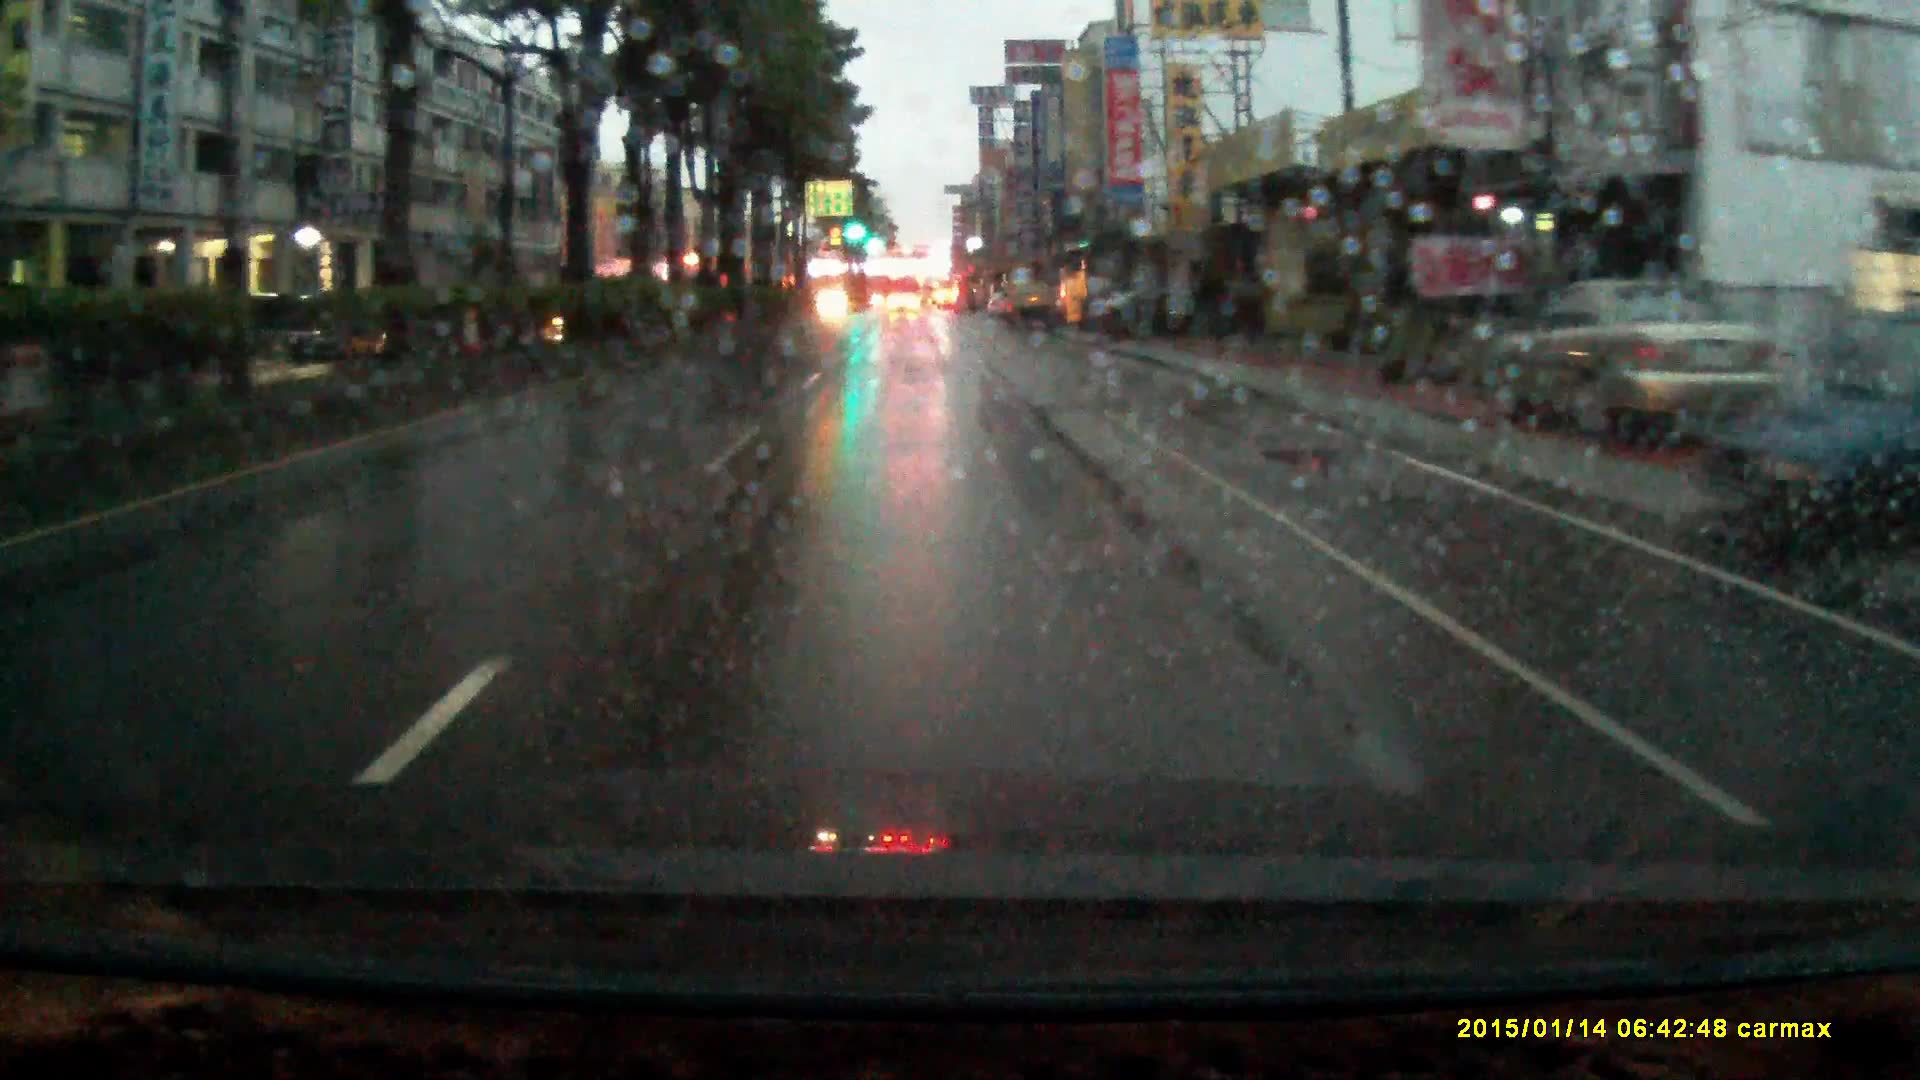vehicle: (1685, 309, 1920, 560), (1520, 280, 1788, 452), (1083, 280, 1259, 338), (1004, 281, 1055, 335), (886, 291, 920, 316)
